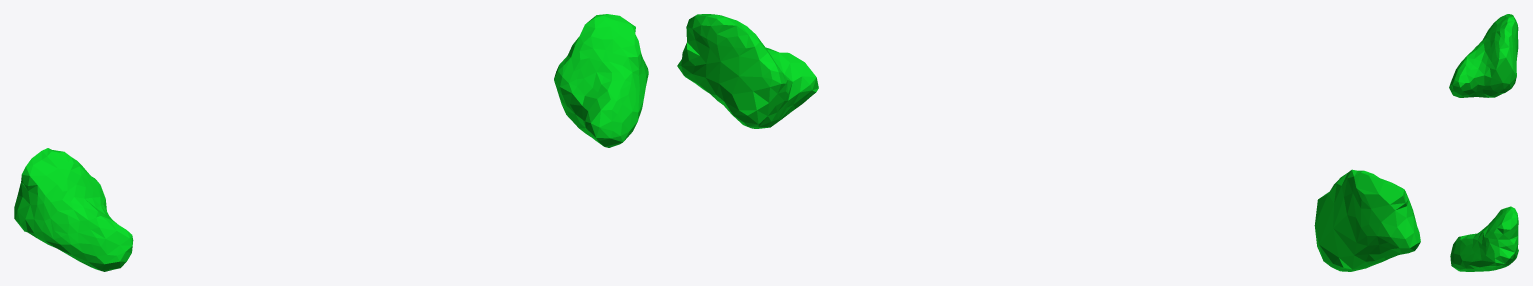
Rendered from 14-TF-temporal area TF-('0.0000', '1.0000', '0.1529').obj.
3 views of the same model, side by side, from view 1: azimuth 30°, elevation 25°; view 2: azimuth 150°, elevation 25°; view 3: azimuth 270°, elevation 25° (orthographic). The views are drawn at different scales.
Bounding box in the file's own units: 268 × 41.78 × 36.46.
